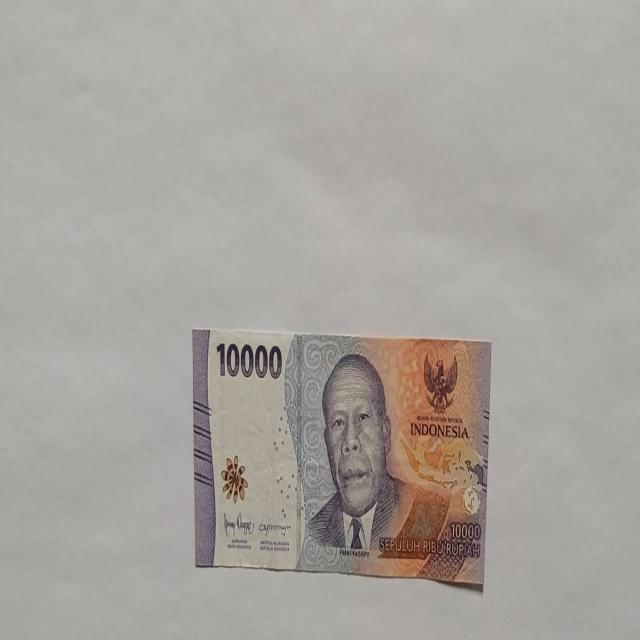sepuluh ribu rupiah: (192, 326, 492, 585)
